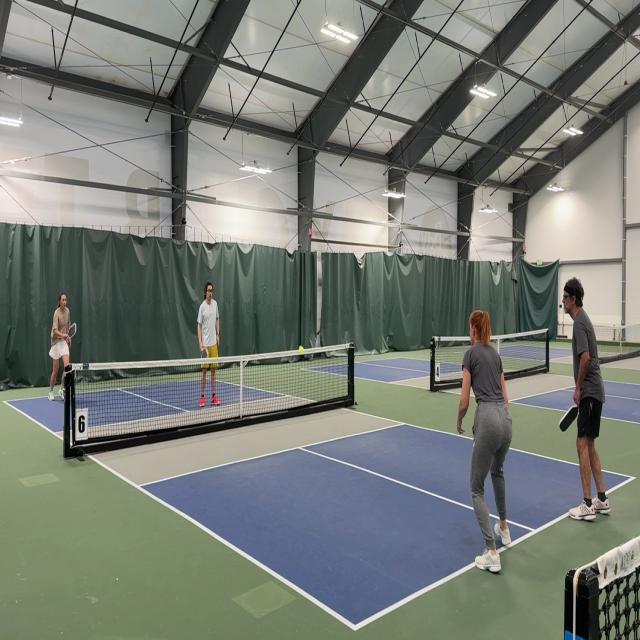ball: (298, 345, 305, 355)
